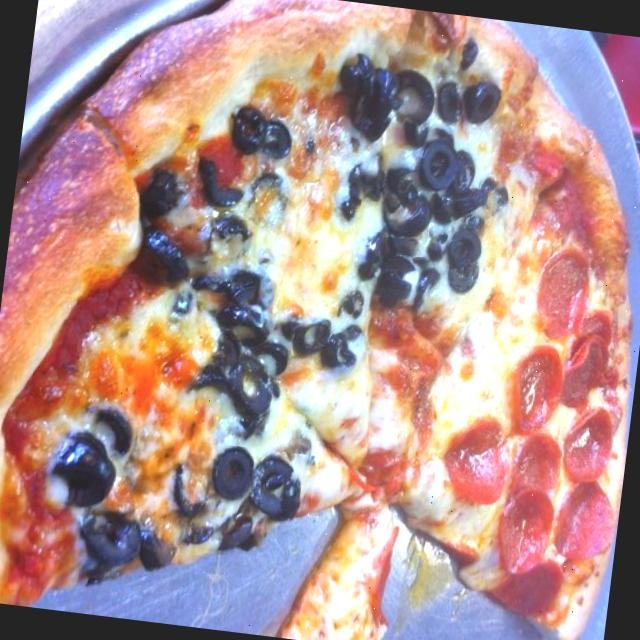Olive: (330, 46, 510, 300), (36, 404, 188, 602), (196, 263, 370, 433), (163, 90, 302, 258), (188, 442, 314, 563)
pepperoni: (422, 426, 626, 618), (507, 310, 620, 498), (527, 248, 591, 344)
pizza: (0, 0, 629, 640)
